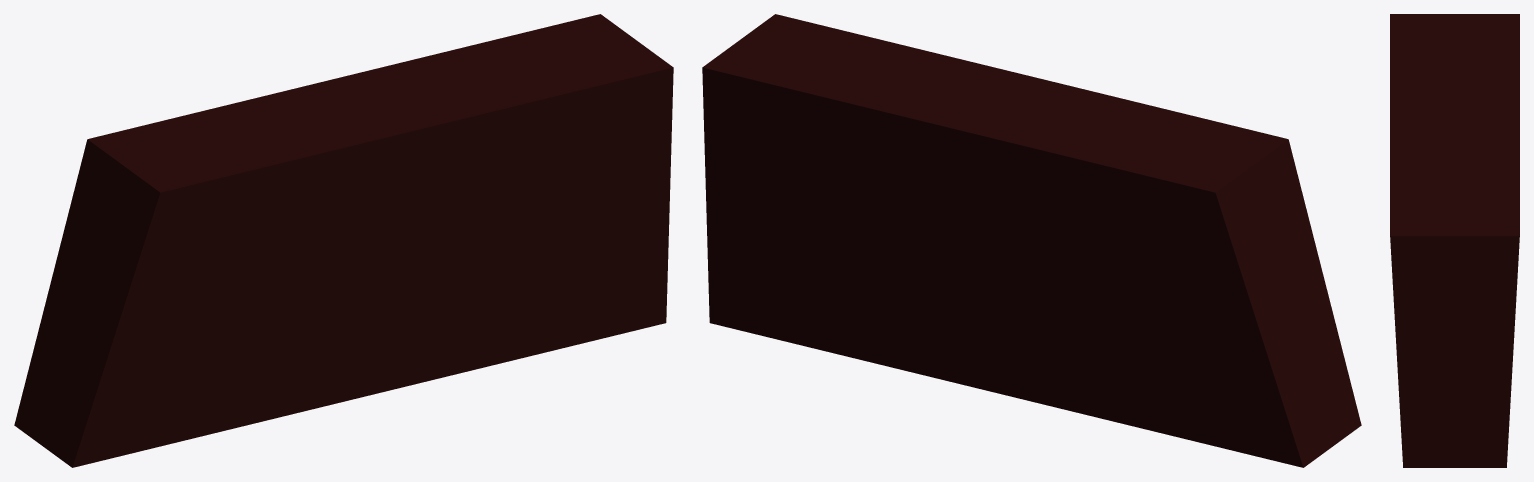
Rendered from W_O_Playground_Glassbed_002_L3.fbx.
The picture shows the model from 3 angles, left to right: view 1: azimuth 30°, elevation 25°; view 2: azimuth 150°, elevation 25°; view 3: azimuth 270°, elevation 25°; orthographic projection. The views are drawn at different scales.
Visible parts, largest first — view 1: W_O_Playground_Glassbed_002_L3; view 2: W_O_Playground_Glassbed_002_L3; view 3: W_O_Playground_Glassbed_002_L3.
Boxes of the visible parts, x1,y1,x2,y2 form: W_O_Playground_Glassbed_002_L3: [14, 14, 673, 467]; W_O_Playground_Glassbed_002_L3: [702, 14, 1361, 467]; W_O_Playground_Glassbed_002_L3: [1390, 14, 1519, 467].
Size of the model in its own units: 1.48 by 0.6202 by 0.3147.
